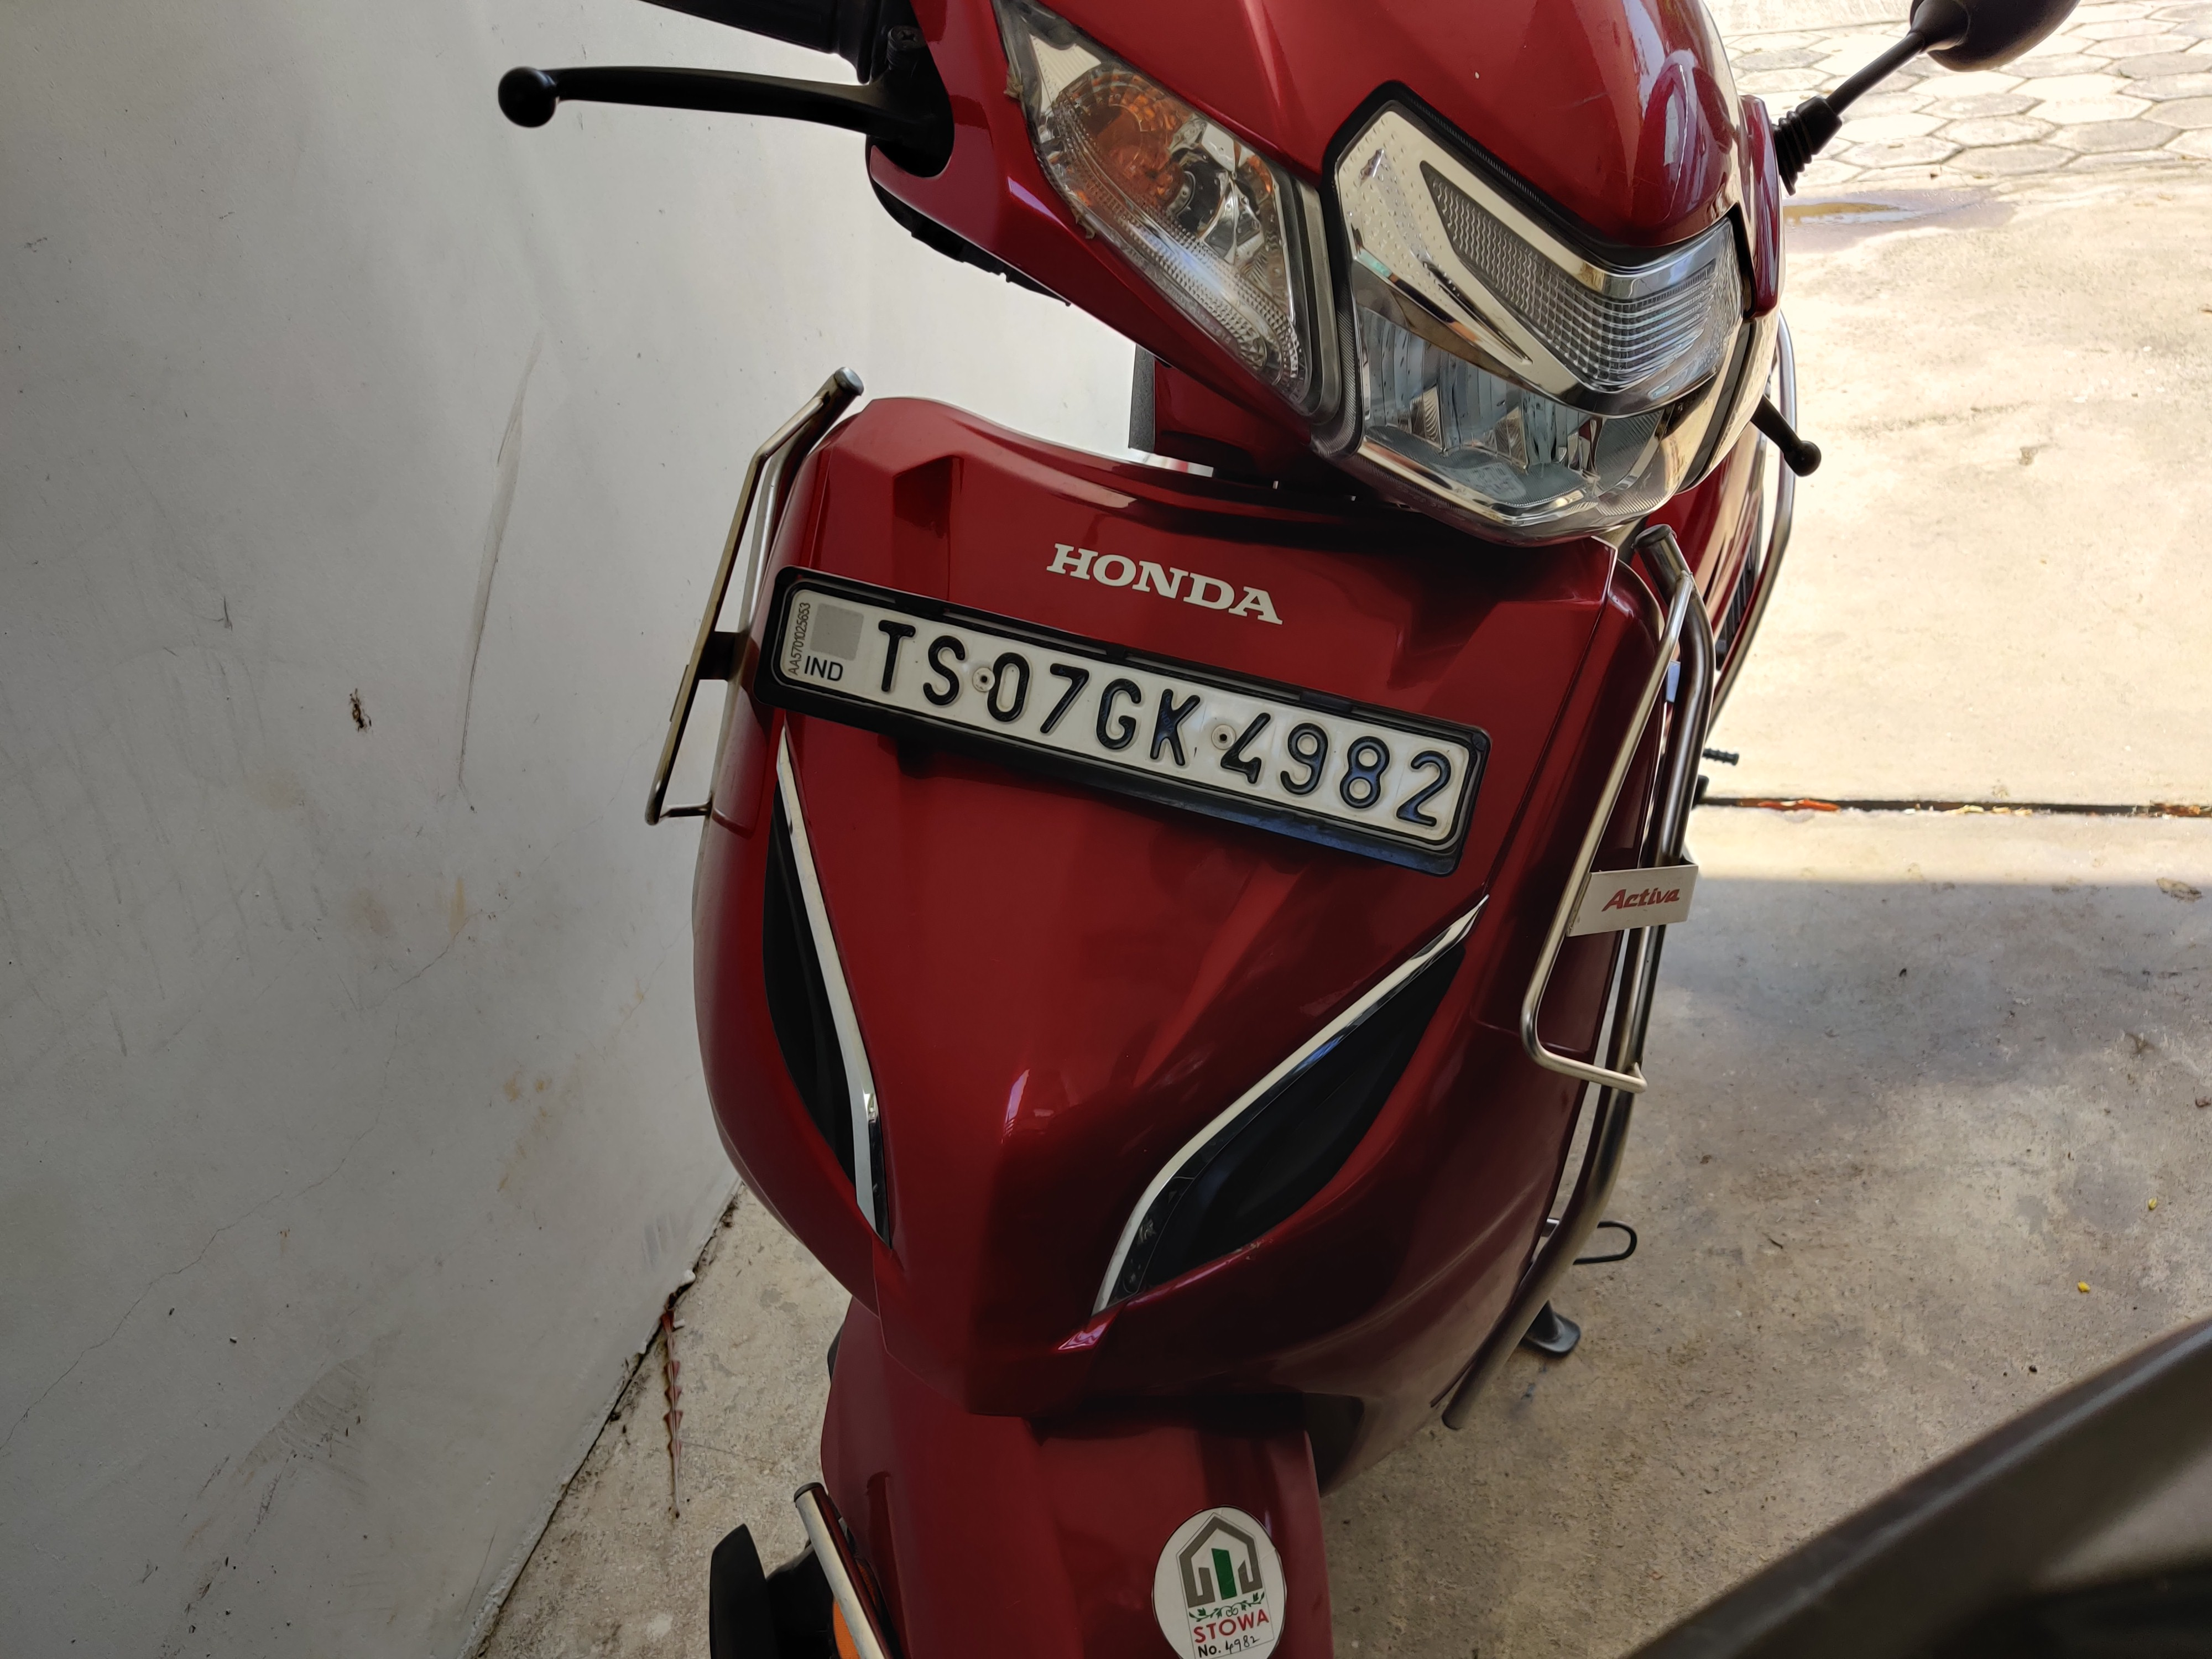plate: (751, 550, 1530, 928)
